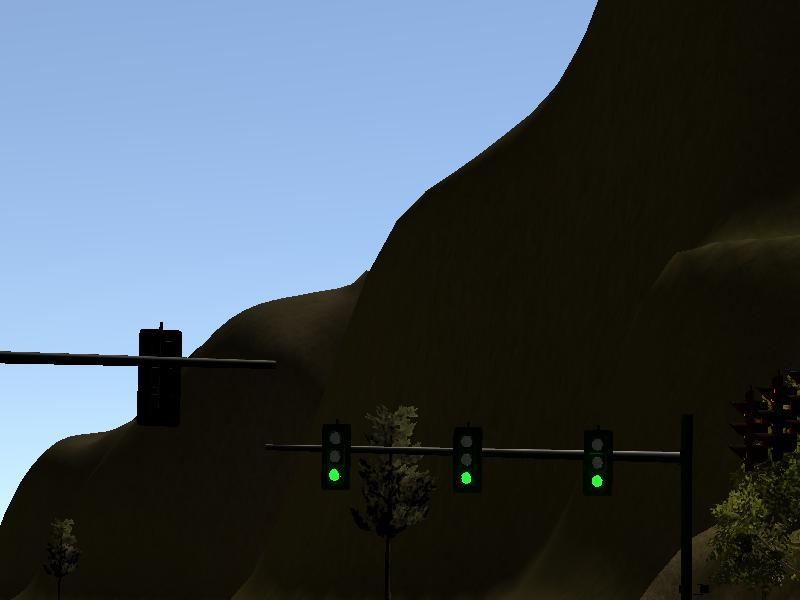green: (582, 431, 613, 497), (453, 427, 481, 493), (321, 425, 349, 490)
